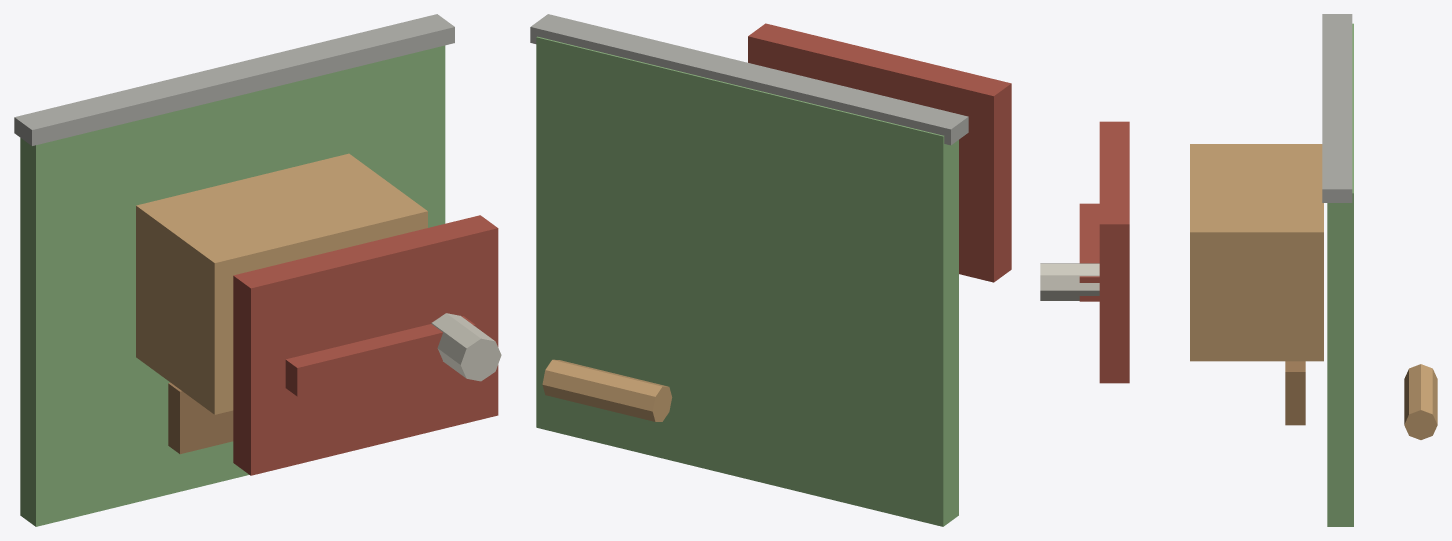
File: 12_XuongMoc.glb
The picture shows the model from 3 angles, left to right: view 1: azimuth 30°, elevation 25°; view 2: azimuth 150°, elevation 25°; view 3: azimuth 270°, elevation 25°; orthographic projection. The views are drawn at different scales.
Visible parts, largest first — view 1: base, roof, house, edge, ridge, workbench, smoke; view 2: base, roof, edge, log; view 3: house, base, roof, edge, log, smoke, ridge, workbench.
Boxes of the visible parts, x1=… form: base: x1=20, y1=45, x2=445, y2=526; roof: x1=233, y1=215, x2=498, y2=475; house: x1=136, y1=153, x2=427, y2=414; edge: x1=14, y1=14, x2=454, y2=145; ridge: x1=285, y1=316, x2=475, y2=396; workbench: x1=168, y1=382, x2=233, y2=454; smoke: x1=431, y1=313, x2=501, y2=381; base: x1=536, y1=36, x2=958, y2=526; roof: x1=748, y1=23, x2=1011, y2=282; edge: x1=530, y1=14, x2=968, y2=145; log: x1=542, y1=359, x2=672, y2=421; house: x1=1190, y1=144, x2=1323, y2=361; base: x1=1327, y1=23, x2=1353, y2=526; roof: x1=1099, y1=121, x2=1129, y2=383; edge: x1=1322, y1=14, x2=1352, y2=202; log: x1=1404, y1=364, x2=1437, y2=439; smoke: x1=1040, y1=263, x2=1099, y2=300; ridge: x1=1079, y1=203, x2=1099, y2=301; workbench: x1=1285, y1=361, x2=1305, y2=425.
Bounding box in the file's own units: 2.48 × 2.25 × 2.38.
